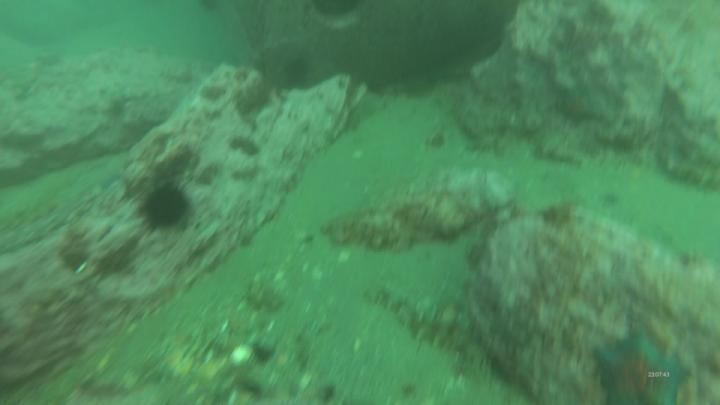echinus: (141, 183, 191, 231)
holothurian: (374, 285, 485, 379)
starfish: (593, 328, 695, 405), (556, 86, 605, 127)
